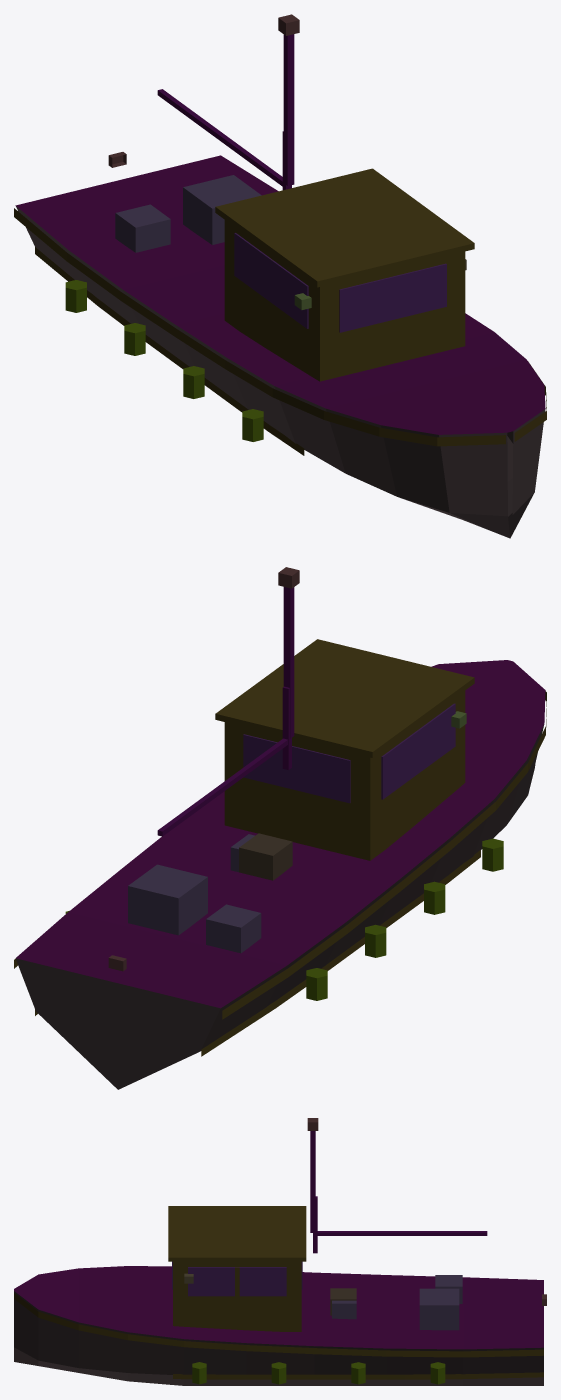
Rendered from boat_work_a.glb.
3 renders of one model, top to bottom at view 1: azimuth 30°, elevation 25°; view 2: azimuth 150°, elevation 25°; view 3: azimuth 270°, elevation 25°, orthographic. The views are drawn at different scales.
Visible parts, largest first — view 1: boat_work_a; view 2: boat_work_a; view 3: boat_work_a.
Part boxes in pixels (x1,y1,x2,y2): boat_work_a: (14,14,546,538); boat_work_a: (14,567,546,1089); boat_work_a: (14,1118,546,1385).
Bounding box in the file's own units: 5.4 × 7.75 × 14.08.
